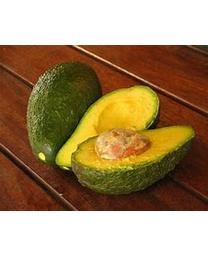avocado: (54, 84, 161, 174), (71, 126, 198, 197), (25, 61, 102, 164)
